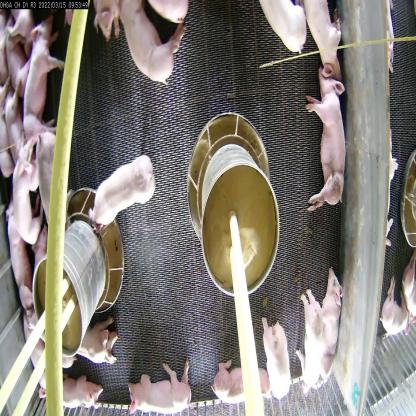Pig: (308, 54, 351, 218), (116, 0, 189, 93), (13, 16, 67, 134), (120, 356, 209, 416), (88, 156, 156, 227), (41, 349, 107, 415), (208, 340, 270, 410), (10, 148, 44, 263), (252, 0, 311, 65), (34, 134, 71, 237), (72, 296, 122, 368), (256, 316, 293, 408), (300, 301, 328, 398), (0, 216, 33, 293), (321, 278, 345, 380), (20, 307, 44, 398)
